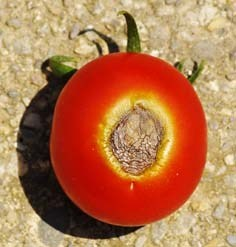blossom_rotw: (90, 92, 191, 198)
